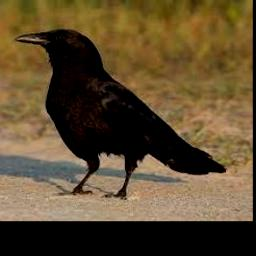Crow: (15, 29, 226, 199)
